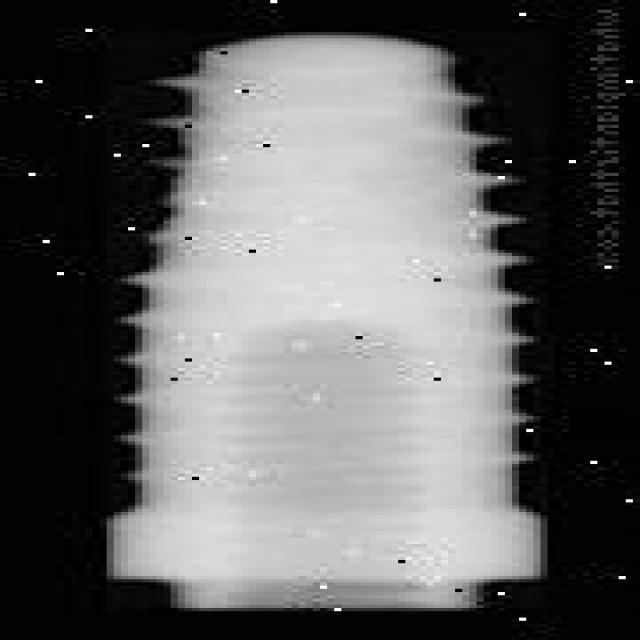Retained root: (107, 32, 548, 608)
